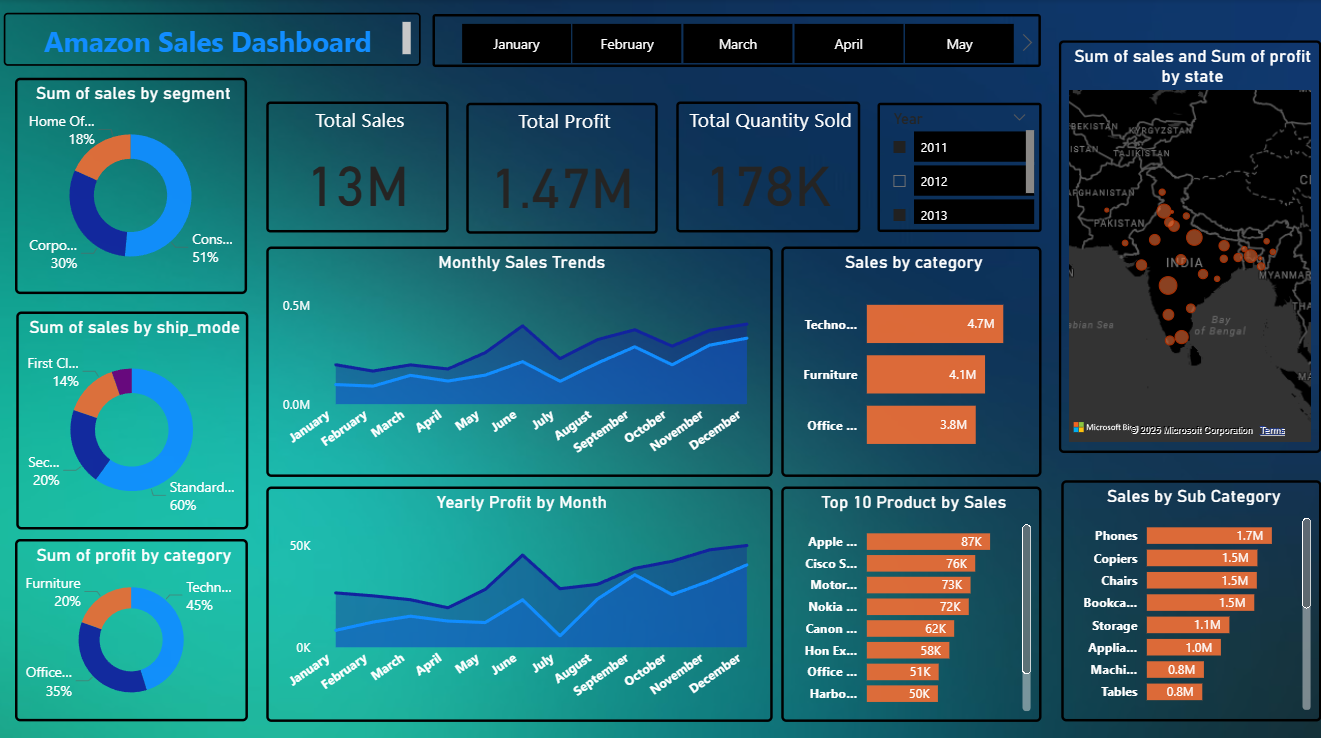

This screenshot's page, from the dashboard's own definition file:
{"tool":"powerbi","page":{"name":"Page 1","canvas":[1280,720],"ordinal":0},"visuals":[{"type":"clusteredBarChart","title":"Top 10 Product by Sales","fields":{"Category":["Source Data.product_name"],"Y":["Sum(Source Data.sales)"]},"box":[758.8,470,251.2,227.5],"z":0},{"type":"clusteredBarChart","title":"Sales by category","fields":{"Y":["Sum(Source Data.sales)"],"Category":["Source Data.category"]},"box":[758.8,238.8,251.2,222.5],"z":1000},{"type":"clusteredBarChart","title":"Sales by Sub Category","fields":{"Y":["Sum(Source Data.sales)"],"Category":["Source Data.sub_category"]},"box":[1028.8,465,251.2,232.5],"z":2000},{"type":"areaChart","title":" Monthly Sales Trends","fields":{"Y":["Sum(Source Data.sales)"],"Series":["Source Data.Month-Year.Variation.Date Hierarchy.Year"],"Category":["Source Data.order_date.Variation.Date Hierarchy.Month"]},"box":[261.2,238.8,488.8,222.5],"z":3000},{"type":"areaChart","title":"Yearly Profit by Month","fields":{"Y":["Sum(Source Data.profit)"],"Category":["Source Data.Month-Year.Variation.Date Hierarchy.Month"],"Series":["Source Data.order_date.Variation.Date Hierarchy.Year"]},"box":[261.2,470,488.8,227.5],"z":4000},{"type":"map","fields":{"Size":["Sum(Source Data.sales)"],"Category":["Source Data.state"]},"box":[1026.2,40,253.8,398.8],"z":5000},{"type":"donutChart","fields":{"Category":["Source Data.segment"],"Y":["Sum(Source Data.sales)"]},"box":[18.8,76.2,223.8,208.8],"z":6000},{"type":"donutChart","fields":{"Y":["Sum(Source Data.sales)"],"Category":["Source Data.ship_mode"]},"box":[20,301.2,223.8,210],"z":7000},{"type":"textbox","box":[8.8,13.8,402.5,51.2],"z":8000},{"type":"card","title":"Total Sales","fields":{"Values":["Sum(Source Data.sales)"]},"box":[261.2,98.8,176.2,126.2],"z":9000},{"type":"donutChart","fields":{"Y":["Sum(Source Data.profit)"],"Category":["Source Data.category"]},"box":[18.8,521.2,225,176.2],"z":10000},{"type":"card","title":"Total Profit","fields":{"Values":["Sum(Source Data.profit)"]},"box":[455,100,185,126.2],"z":11000},{"type":"card","title":"Total Quantity Sold","fields":{"Values":["Sum(Source Data.quantity)"]},"box":[657.5,98.8,177.5,126.2],"z":12000},{"type":"slicer","fields":{"Values":["Source Data.Month-Year.Variation.Date Hierarchy.Month"]},"box":[422.5,14,587.5,51.2],"z":13000},{"type":"slicer","fields":{"Values":["Source Data.Month-Year.Variation.Date Hierarchy.Year"]},"box":[851.2,100,158.8,125],"z":13001}]}

Visuals, with their boxes in screenshot pixels (x1, y1, x2, y2), scaled from the page's 1280x720 canvas onto the 1321x738 screenshot:
"Top 10 Product by Sales" clusteredBarChart: {"left": 783, "top": 482, "right": 1042, "bottom": 715}
"Sales by category" clusteredBarChart: {"left": 783, "top": 245, "right": 1042, "bottom": 473}
"Sales by Sub Category" clusteredBarChart: {"left": 1062, "top": 477, "right": 1320, "bottom": 715}
" Monthly Sales Trends" areaChart: {"left": 270, "top": 245, "right": 774, "bottom": 473}
"Yearly Profit by Month" areaChart: {"left": 270, "top": 482, "right": 774, "bottom": 715}
map - Sum(Source Data.sales) x Source Data.state: {"left": 1059, "top": 41, "right": 1320, "bottom": 450}
donutChart - Source Data.segment x Sum(Source Data.sales): {"left": 19, "top": 78, "right": 250, "bottom": 292}
donutChart - Sum(Source Data.sales) x Source Data.ship_mode: {"left": 21, "top": 309, "right": 252, "bottom": 524}
textbox: {"left": 9, "top": 14, "right": 424, "bottom": 67}
"Total Sales" card: {"left": 270, "top": 101, "right": 451, "bottom": 231}
donutChart - Sum(Source Data.profit) x Source Data.category: {"left": 19, "top": 534, "right": 252, "bottom": 715}
"Total Profit" card: {"left": 470, "top": 102, "right": 660, "bottom": 232}
"Total Quantity Sold" card: {"left": 679, "top": 101, "right": 862, "bottom": 231}
slicer - Source Data.Month-Year.Variation.Date Hierarchy.Month: {"left": 436, "top": 14, "right": 1042, "bottom": 67}
slicer - Source Data.Month-Year.Variation.Date Hierarchy.Year: {"left": 878, "top": 102, "right": 1042, "bottom": 231}
